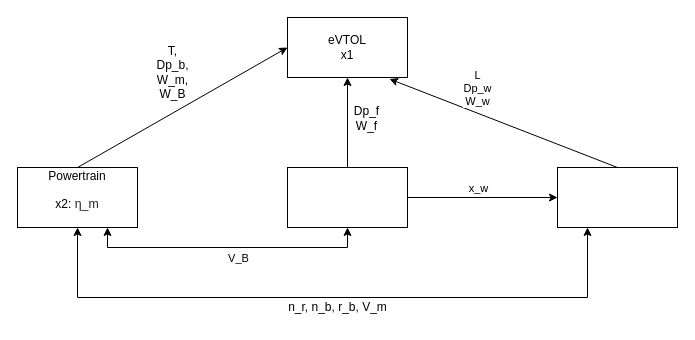
The diagram is 695 pixels wide and 340 high, and some of its shapes have lost their labels. The shapes that lost their labels are listed below. From the top down, each one's centre as x and y in pixels, then its label:
the point at 347,197: Fuselarge x3: L_f, D_f, T_f
the point at 617,197: Wing x4: S_w, b, AR
